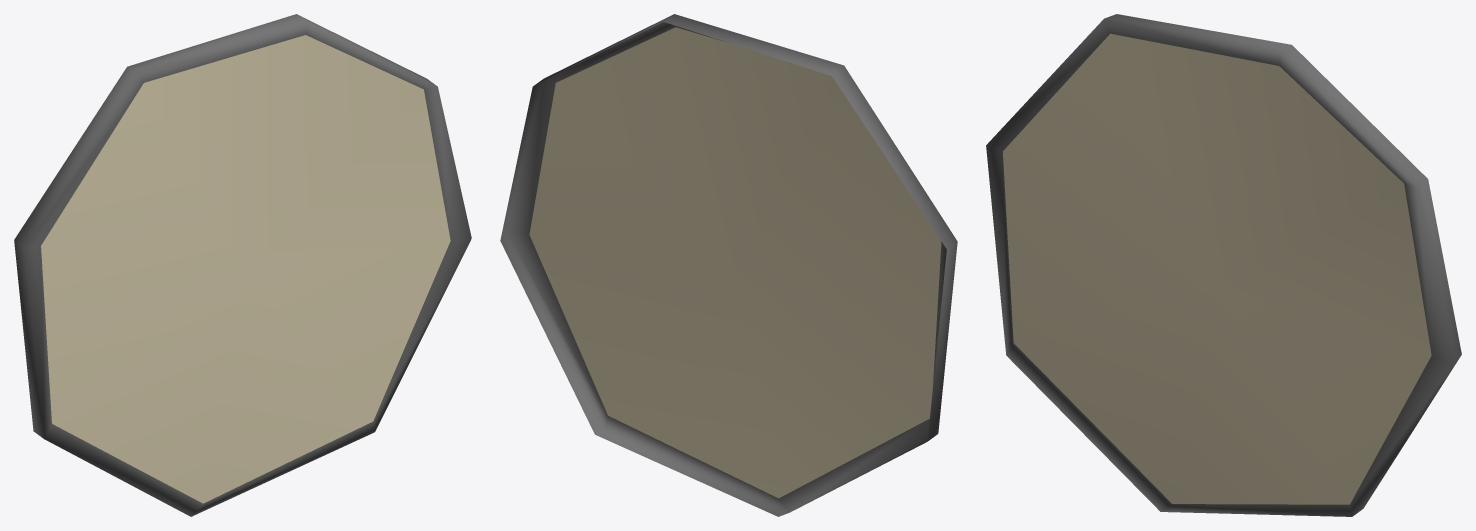
Rendered from ui_orderSmallDot.glb.
The picture shows the model from 3 angles, left to right: view 1: azimuth 30°, elevation 25°; view 2: azimuth 150°, elevation 25°; view 3: azimuth 330°, elevation 25°; orthographic projection. The views are drawn at different scales.
Visible parts, largest first — view 1: Cylinder; view 2: Cylinder; view 3: Cylinder.
Boxes of the visible parts, x1,y1,x2,y2 form: Cylinder: (14, 14, 471, 516); Cylinder: (500, 14, 957, 516); Cylinder: (986, 14, 1461, 516).
Size of the model in its own units: 1.83 by 1.82 by 0.0839.
